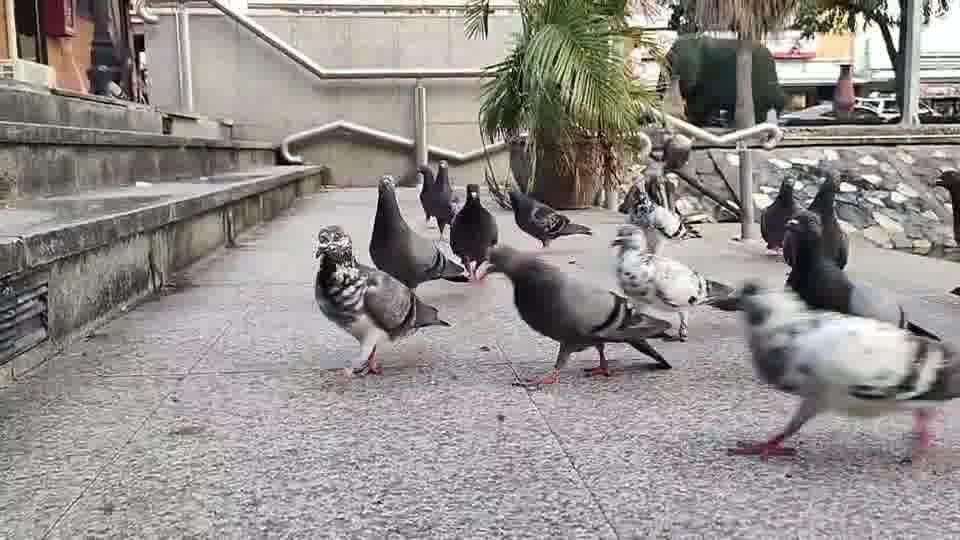Pigeon: (723, 277, 948, 459), (780, 214, 946, 399), (475, 242, 673, 389), (311, 223, 451, 376), (607, 223, 735, 342), (367, 173, 468, 293), (759, 173, 849, 266), (505, 174, 592, 248), (448, 182, 498, 279), (617, 174, 687, 240), (759, 174, 802, 252), (414, 159, 457, 236), (933, 166, 959, 244)
